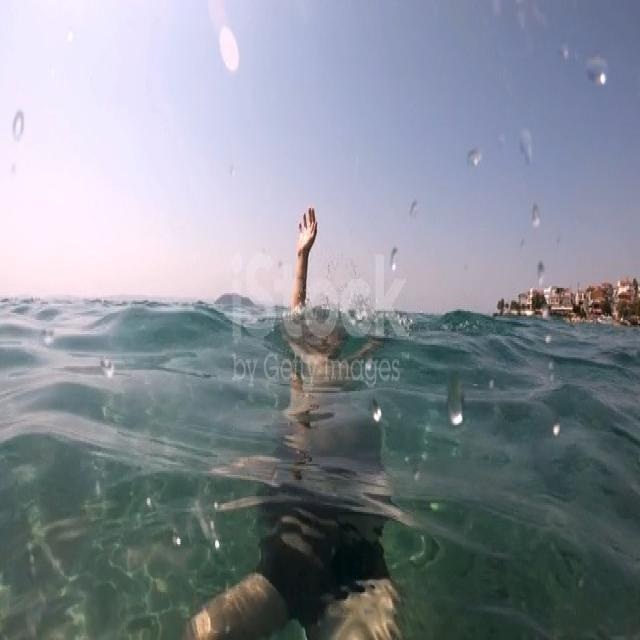Out of Water: (232, 193, 408, 640)
